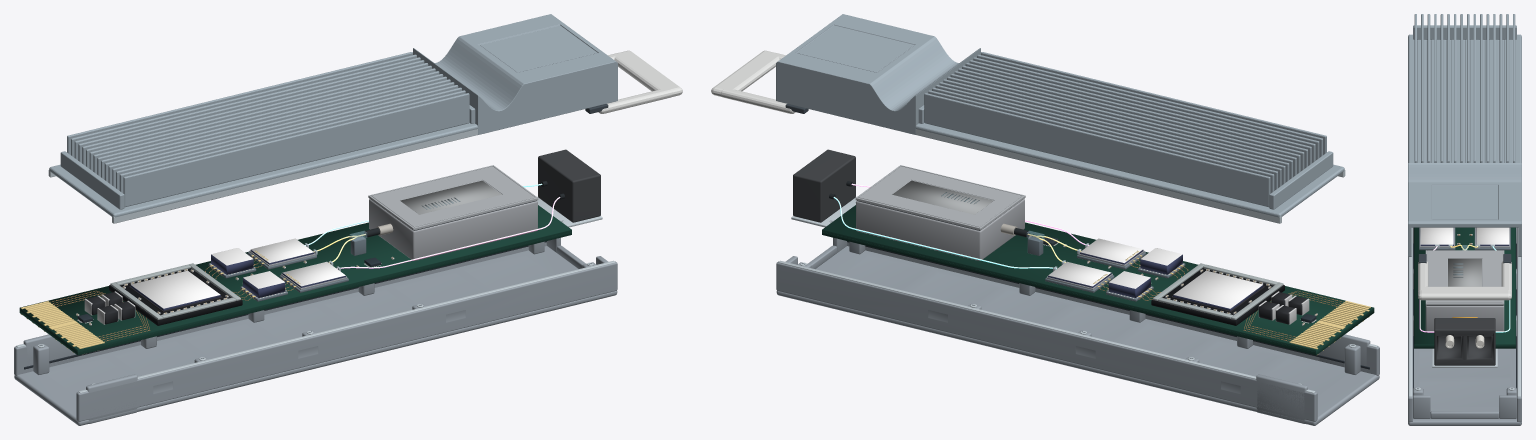
The model's file is coherent-hardware.glb.
The picture shows the model from 3 angles, left to right: view 1: azimuth 30°, elevation 25°; view 2: azimuth 150°, elevation 25°; view 3: azimuth 270°, elevation 25°; orthographic projection. The views are drawn at different scales.
Visible parts, largest first — view 1: coherent-hardware_cover_lid, coherent-hardware_base_shell, BLENDER_coherent-internals_0006, coherent-hardware_itla_itla, coherent-hardware_itla_itlalid, coherent-hardware_base_lcbody, coherent-hardware_cover_edge, coherent-hardware_base_edge, BLENDER_coherent-internals_0000, coherent-hardware_pull_tab, BLENDER_coherent-internals_0011, coherent-hardware_itla_label (+10 smaller); view 2: coherent-hardware_cover_lid, coherent-hardware_base_shell, BLENDER_coherent-internals_0006, coherent-hardware_itla_itla, coherent-hardware_itla_itlalid, coherent-hardware_base_lcbody, coherent-hardware_cover_edge, coherent-hardware_base_edge, BLENDER_coherent-internals_0000, coherent-hardware_pull_tab, BLENDER_coherent-internals_0011, coherent-hardware_itla_label (+10 smaller); view 3: coherent-hardware_cover_lid, coherent-hardware_base_shell, coherent-hardware_base_lcbody, BLENDER_coherent-internals_0006, coherent-hardware_itla_itlalid, coherent-hardware_pull_tab, coherent-hardware_base_edge, coherent-hardware_itla_itla, coherent-hardware_itla_label, BLENDER_coherent-internals_0001, BLENDER_coherent-internals_0002, coherent-hardware_base_zirconia (+6 smaller).
Boxes of the visible parts, left/top/right/bottom form: coherent-hardware_cover_lid: left=49, top=14, right=617, bottom=217; coherent-hardware_base_shell: left=14, top=237, right=617, bottom=425; BLENDER_coherent-internals_0006: left=19, top=205, right=571, bottom=355; coherent-hardware_itla_itla: left=369, top=199, right=537, bottom=260; coherent-hardware_itla_itlalid: left=368, top=165, right=538, bottom=230; coherent-hardware_base_lcbody: left=538, top=149, right=600, bottom=222; coherent-hardware_cover_edge: left=48, top=129, right=477, bottom=223; coherent-hardware_base_edge: left=16, top=196, right=615, bottom=393; BLENDER_coherent-internals_0000: left=130, top=270, right=220, bottom=310; coherent-hardware_pull_tab: left=598, top=50, right=682, bottom=113; BLENDER_coherent-internals_0011: left=21, top=255, right=296, bottom=352; coherent-hardware_itla_label: left=400, top=180, right=501, bottom=214; coherent-hardware_cover_lid: left=776, top=14, right=1344, bottom=217; coherent-hardware_base_shell: left=776, top=237, right=1379, bottom=425; BLENDER_coherent-internals_0006: left=822, top=205, right=1374, bottom=355; coherent-hardware_itla_itla: left=856, top=199, right=1024, bottom=260; coherent-hardware_itla_itlalid: left=855, top=165, right=1025, bottom=230; coherent-hardware_base_lcbody: left=793, top=149, right=855, bottom=222; coherent-hardware_cover_edge: left=916, top=129, right=1345, bottom=223; coherent-hardware_base_edge: left=778, top=196, right=1377, bottom=393; BLENDER_coherent-internals_0000: left=1173, top=270, right=1263, bottom=310; coherent-hardware_pull_tab: left=711, top=50, right=795, bottom=113; BLENDER_coherent-internals_0011: left=1097, top=255, right=1370, bottom=354; coherent-hardware_itla_label: left=892, top=180, right=993, bottom=214; coherent-hardware_cover_lid: left=1408, top=14, right=1521, bottom=256; coherent-hardware_base_shell: left=1408, top=227, right=1521, bottom=425; coherent-hardware_base_lcbody: left=1434, top=318, right=1495, bottom=365; BLENDER_coherent-internals_0006: left=1414, top=227, right=1515, bottom=348; coherent-hardware_itla_itlalid: left=1425, top=250, right=1504, bottom=305; coherent-hardware_pull_tab: left=1418, top=261, right=1511, bottom=300; coherent-hardware_base_edge: left=1409, top=228, right=1520, bottom=396; coherent-hardware_itla_itla: left=1425, top=305, right=1504, bottom=331; coherent-hardware_itla_label: left=1448, top=258, right=1481, bottom=286; BLENDER_coherent-internals_0001: left=1476, top=227, right=1509, bottom=245; BLENDER_coherent-internals_0002: left=1420, top=227, right=1453, bottom=245; coherent-hardware_base_zirconia: left=1445, top=335, right=1484, bottom=348.
Size of the model in its own units: 0.1221 by 0.0448 by 0.0226.
